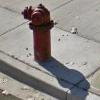Hydrant: (18, 3, 79, 70)
